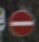No entry: (6, 5, 34, 36)
